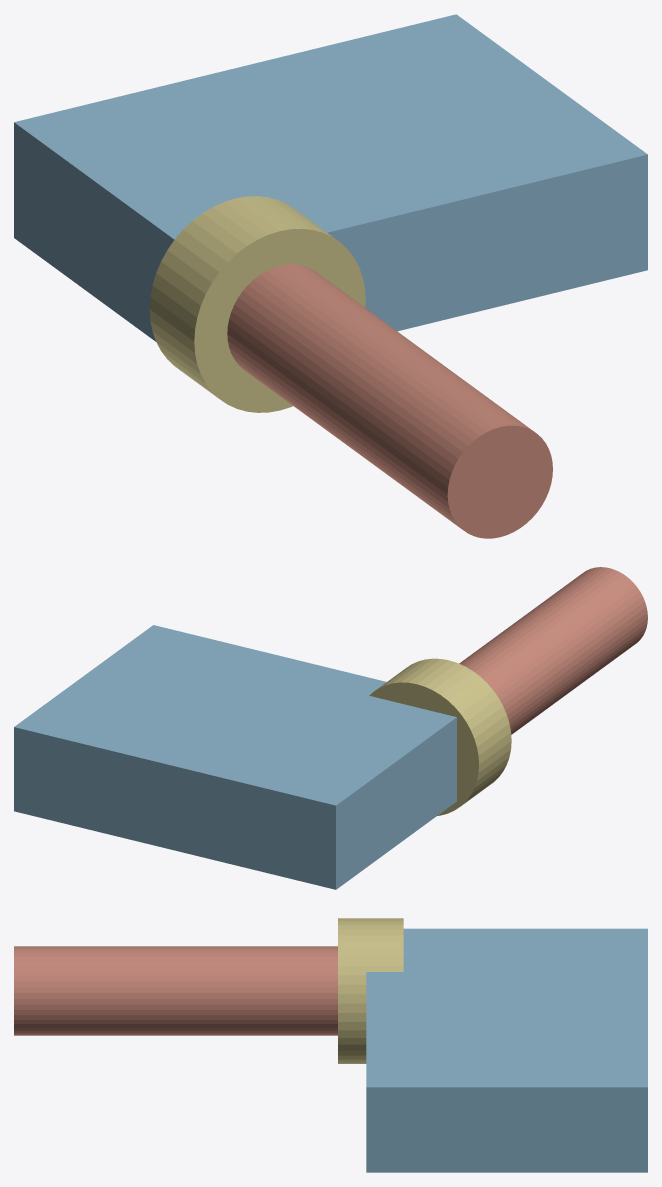
3 renders of one model, top to bottom at view 1: azimuth 30°, elevation 25°; view 2: azimuth 150°, elevation 25°; view 3: azimuth 270°, elevation 25°, orthographic. The views are drawn at different scales.
Size of the model in its own units: 171 by 62 by 270.
